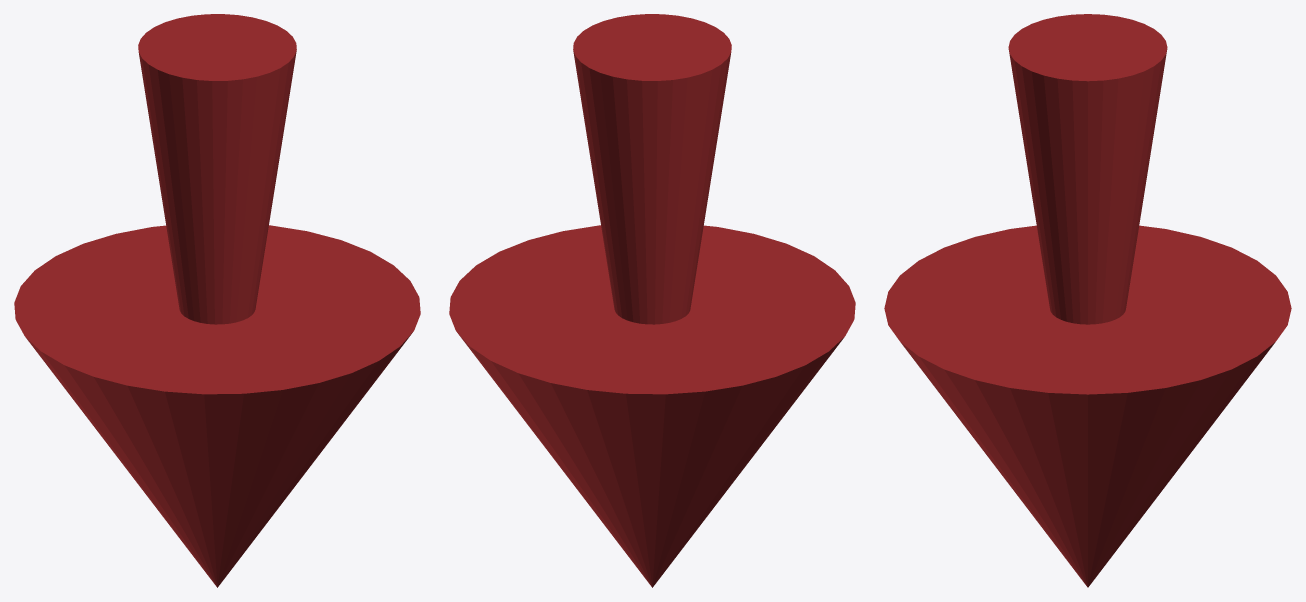
File: Indicator.fbx
3 renders of one model, left to right at view 1: azimuth 30°, elevation 25°; view 2: azimuth 150°, elevation 25°; view 3: azimuth 270°, elevation 25°, orthographic.
Visible parts, largest first — view 1: Cone; view 2: Cone; view 3: Cone.
Part boxes in pixels (x1,y1,x2,y2): Cone: [14, 14, 420, 587]; Cone: [449, 14, 855, 587]; Cone: [884, 14, 1291, 587].
Size of the model in its own units: 264 by 387 by 264.
